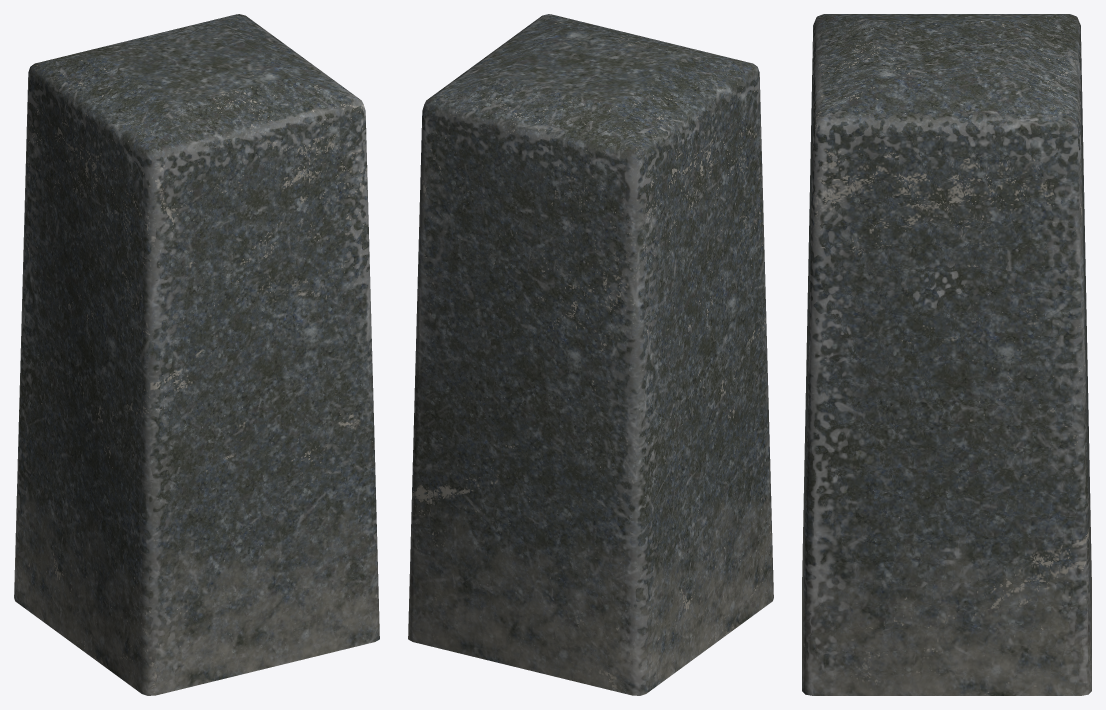
The model's file is SM_Cornerstone01c.fbx.
3 views of the same model, side by side, from view 1: azimuth 30°, elevation 25°; view 2: azimuth 150°, elevation 25°; view 3: azimuth 270°, elevation 25° (orthographic). The views are drawn at different scales.
Visible parts, largest first — view 1: SM_Cornerstone01c; view 2: SM_Cornerstone01c; view 3: SM_Cornerstone01c.
Boxes of the visible parts, <box> form: SM_Cornerstone01c: <box>14,14,379,695</box>; SM_Cornerstone01c: <box>408,14,773,695</box>; SM_Cornerstone01c: <box>802,14,1091,695</box>.
Bounding box in the file's own units: 60 × 60 × 133.
Materials: 1 (1 with a texture image).
